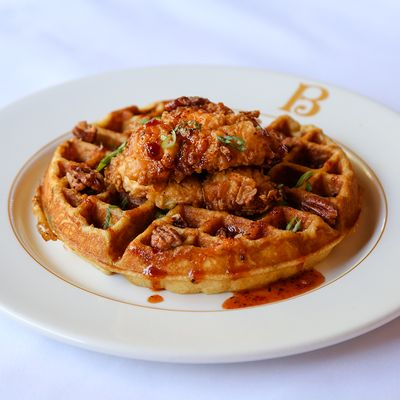sandwich: (33, 96, 363, 295)
